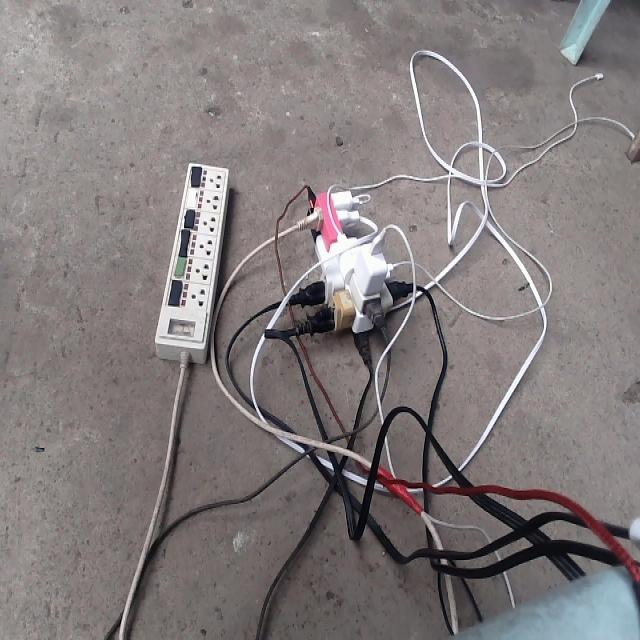-: (289, 178, 405, 338)
